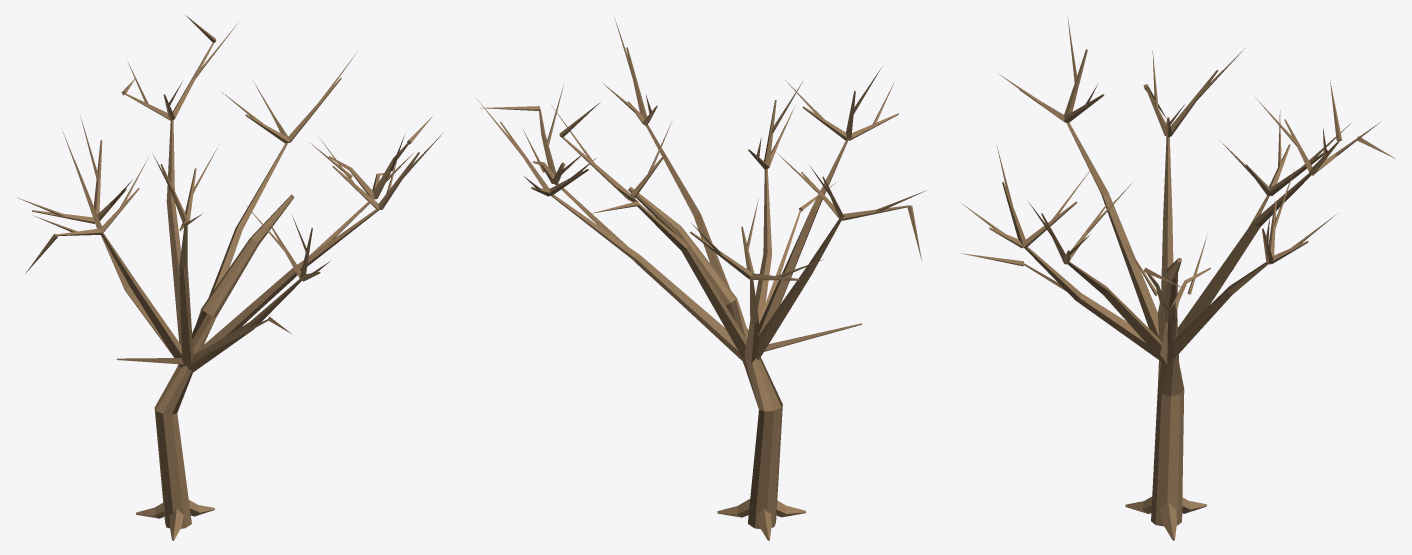
The model's file is oak_bare_03.glb.
3 views of the same model, side by side, from view 1: azimuth 30°, elevation 25°; view 2: azimuth 150°, elevation 25°; view 3: azimuth 270°, elevation 25° (orthographic). The views are drawn at different scales.
Visible parts, largest first — view 1: Oak_bare_03; view 2: Oak_bare_03; view 3: Oak_bare_03.
Boxes of the visible parts, left/top/right/bottom form: Oak_bare_03: left=17, top=15, right=442, bottom=540; Oak_bare_03: left=476, top=17, right=926, bottom=540; Oak_bare_03: left=960, top=17, right=1395, bottom=540.
Bounding box in the file's own units: 13.76 × 13.8 × 11.28.
